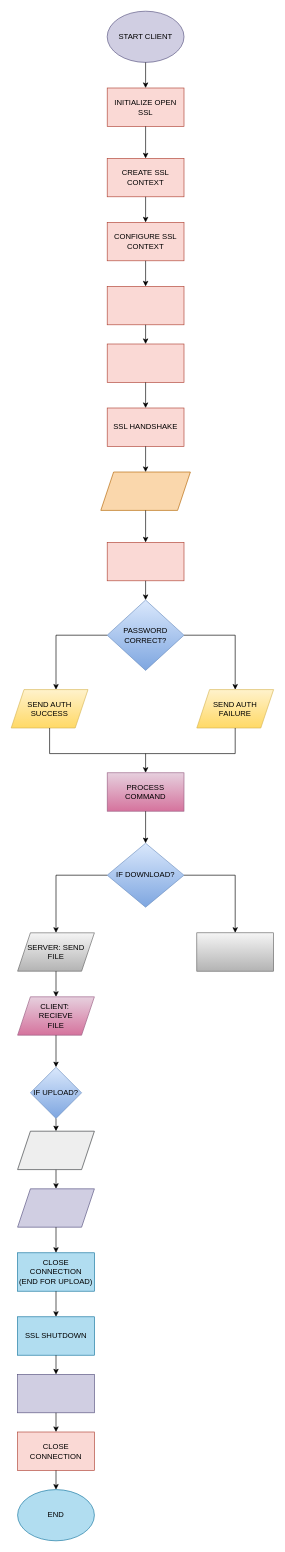
Some shapes in this 285 by 1552 pixel diagram are drawn without their labels. Here are the shapes that lost their labels. From the top down, the centre of each, then its label:
At point (145, 305): "CONNECT TO SERVER (IP & PORT)".
At point (145, 362): "WRAP CONNECTION WITH SSL".
At point (145, 490): "CLIENT : SEND PASS".
At point (145, 561): "SERVER: VERIFY PASS".
At point (235, 951): "CLOSE CONNECTION (END FOR DOWNLOAD)".
At point (55, 1150): "CLIENT: SEND FILE".
At point (55, 1207): "SERVER: RECIEVE FILE".
At point (55, 1393): "FREE SSL RESOURCES".
